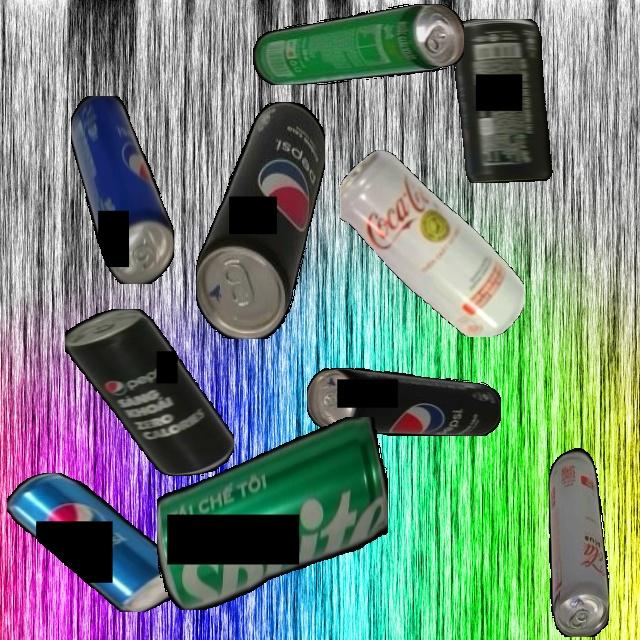debris: (156, 416, 388, 610), (339, 149, 524, 337), (195, 101, 325, 339), (64, 309, 234, 476), (7, 472, 186, 612), (70, 95, 174, 284), (252, 4, 464, 85), (453, 18, 553, 183), (307, 367, 501, 436), (548, 445, 609, 637)
